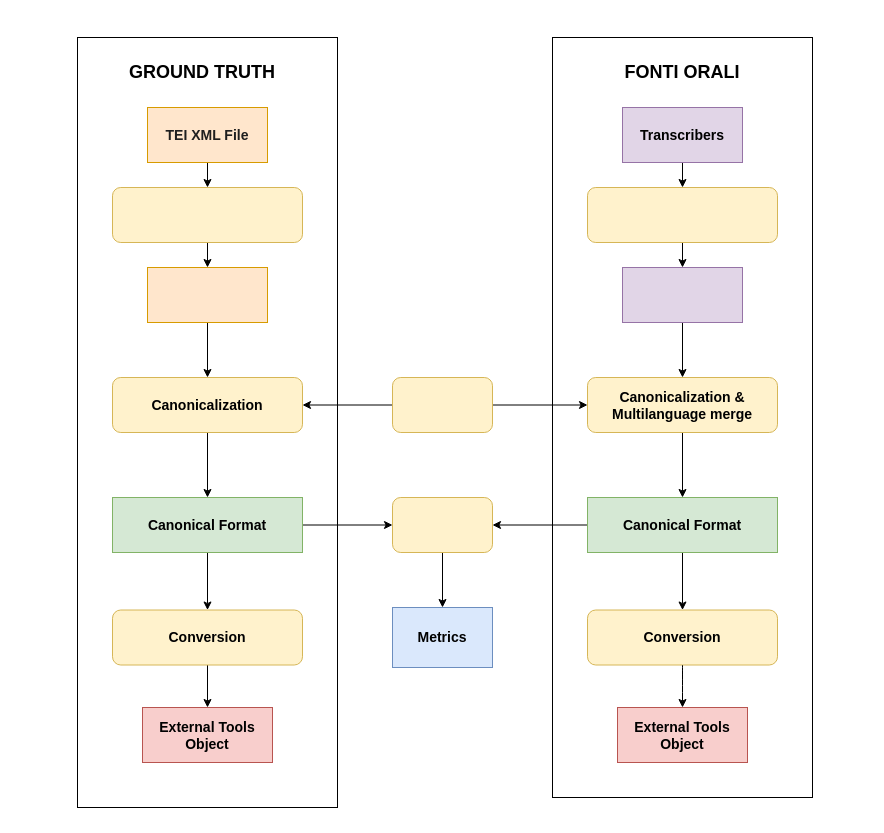
Image size: 884x833. Some labels were removed from this diagram. Each missing label, with the centre of its shape:
"Comparison" goes at (x=442, y=524).
"Parsing" goes at (x=207, y=214).
"TEI Object" goes at (x=207, y=294).
"Tokenizer" goes at (x=442, y=404).
"Transcription" goes at (x=682, y=294).
"Transcription Service" goes at (x=682, y=214).
